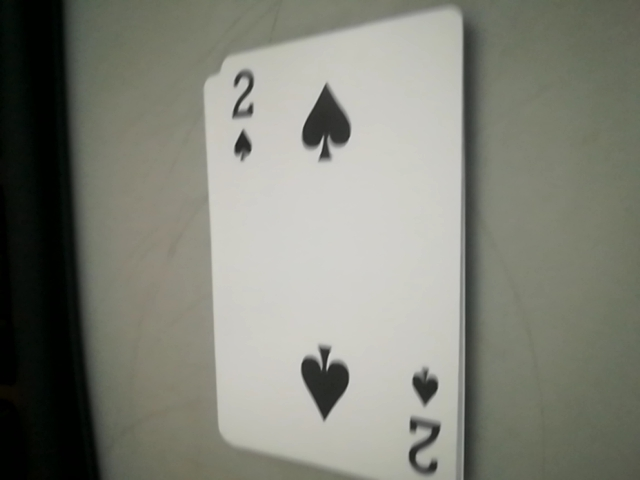ht 2: (215, 61, 279, 172)
